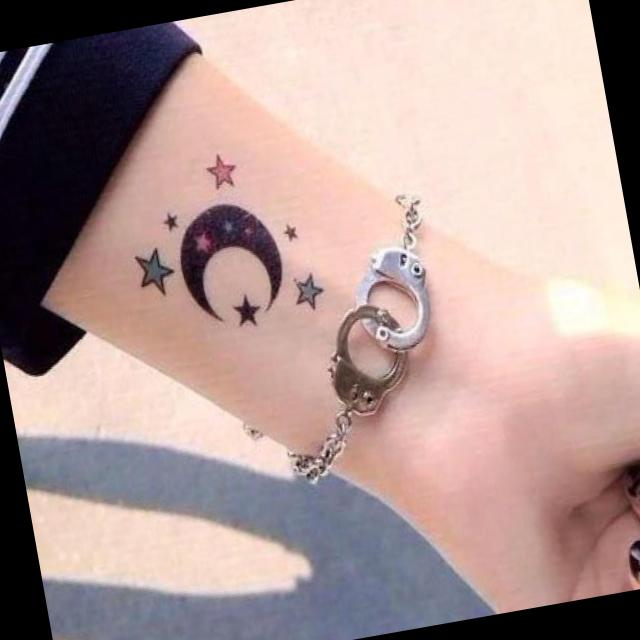Nail: (624, 466, 640, 504), (628, 540, 640, 583)
